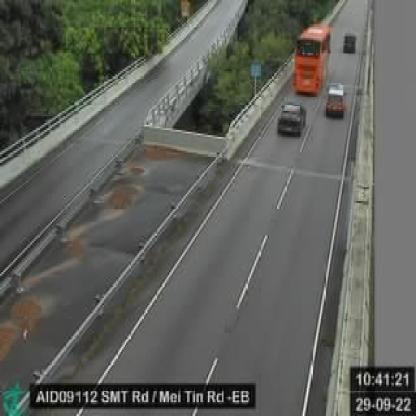Bus: (290, 24, 330, 96)
Car: (277, 96, 309, 140), (322, 80, 346, 121), (342, 31, 356, 56)
